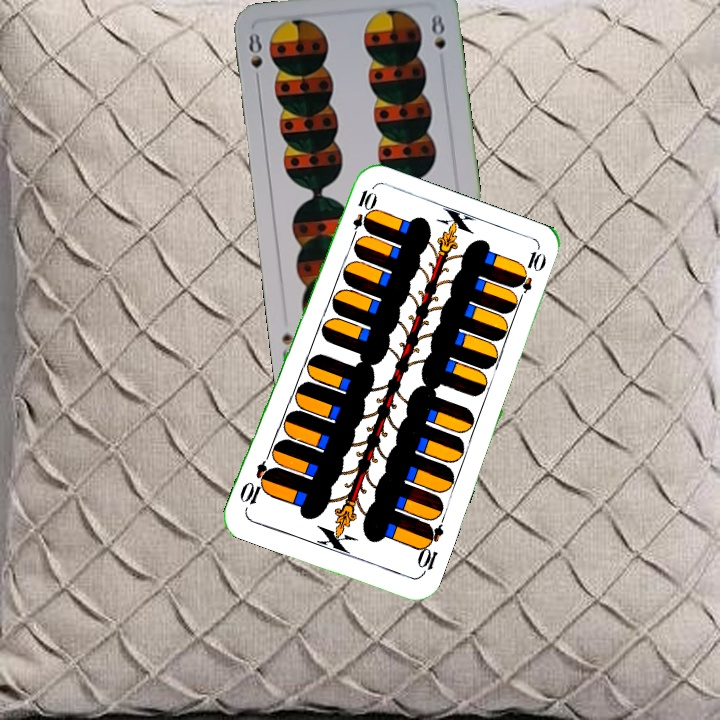E10: (413, 520, 447, 578), (347, 185, 376, 244)
S8: (244, 28, 265, 71)
